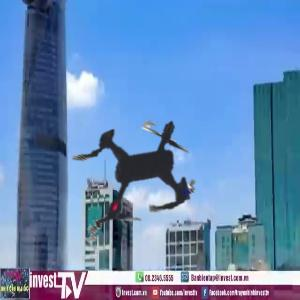drone: (12, 39, 267, 294)
